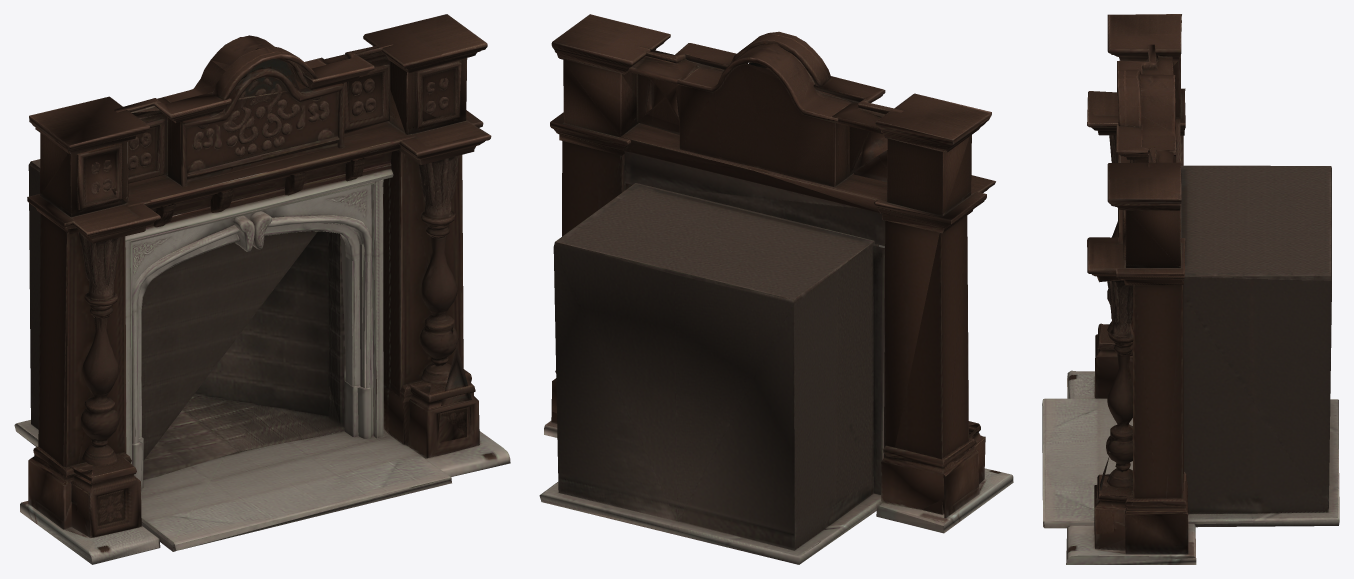
The model's file is rrr_prop_fireplace_v1.glb.
The picture shows the model from 3 angles, left to right: view 1: azimuth 30°, elevation 25°; view 2: azimuth 150°, elevation 25°; view 3: azimuth 270°, elevation 25°; orthographic projection. The views are drawn at different scales.
Parts seen in each view (by area): view 1: Mesh_0.001; view 2: Mesh_0.001; view 3: Mesh_0.001.
Part boxes in pixels (box(x1,y1,x2,y2)): Mesh_0.001: box(14, 14, 510, 564); Mesh_0.001: box(539, 14, 1013, 564); Mesh_0.001: box(1042, 14, 1339, 564).
Size of the model in its own units: 1.5 by 1.5 by 1.02.
1 material, 1 textured.
